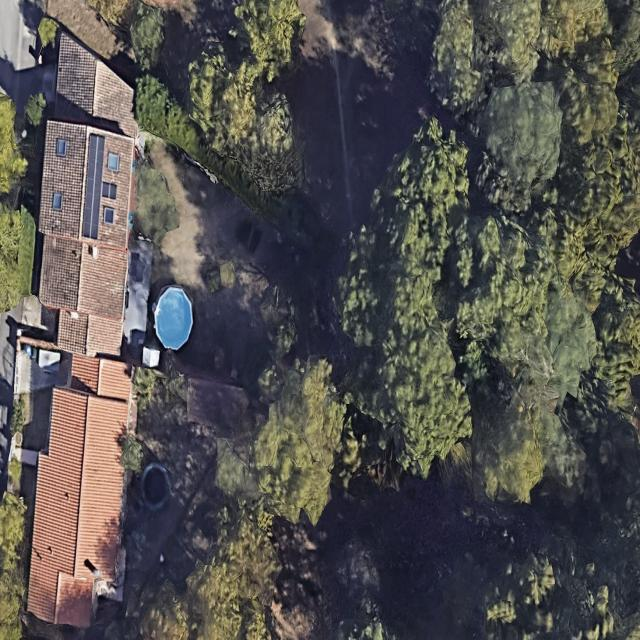maison: (34, 32, 138, 360), (24, 351, 133, 631)
